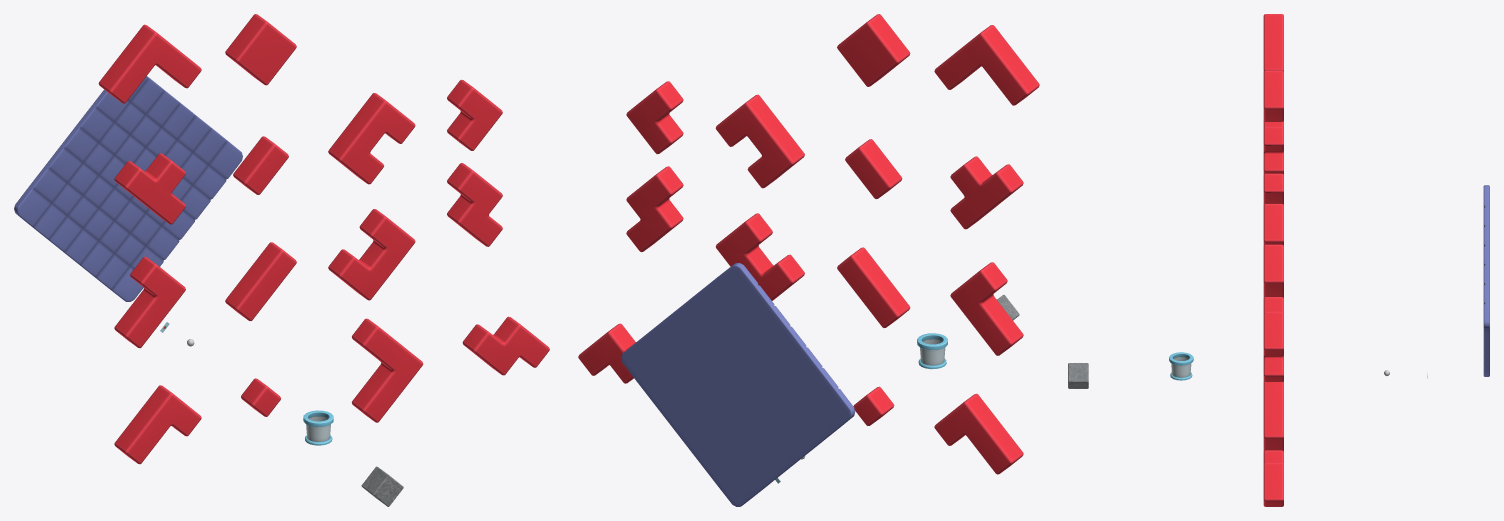
File: BlockerBallDrop.fbx
3 views of the same model, side by side, from view 1: azimuth 30°, elevation 25°; view 2: azimuth 150°, elevation 25°; view 3: azimuth 270°, elevation 25° (orthographic). The views are drawn at different scales.
Visible parts, largest first — view 1: Board, pCube8, pCube9, pCube10, pCube11, pCube6, pCube5, pCube7, pCube13, pCube12, pCube4, pCube2 (+5 smaller); view 2: Board, pCube11, pCube8, pCube6, pCube5, pCube10, pCube13, pCube7, pCube4, pCube2, pCube16, pCube3 (+3 smaller); view 3: pCube13, pCube9, Board, pCube8, pCube12, pCube7, pCube4, pCube16, pCube11, pCube3, Box, Wall.
Boxes of the visible parts, <box> form: Board: <box>14,76,242,301</box>; pCube8: <box>98,24,201,103</box>; pCube9: <box>351,318,423,422</box>; pCube10: <box>328,209,415,300</box>; pCube11: <box>328,93,415,184</box>; pCube6: <box>114,256,185,348</box>; pCube5: <box>114,385,201,464</box>; pCube7: <box>114,153,185,224</box>; pCube13: <box>447,163,502,246</box>; pCube12: <box>462,316,549,375</box>; pCube4: <box>225,14,296,85</box>; pCube2: <box>225,242,296,320</box>; Board: <box>621,263,855,506</box>; pCube11: <box>715,94,804,188</box>; pCube8: <box>934,25,1039,105</box>; pCube6: <box>950,262,1023,355</box>; pCube5: <box>934,393,1023,474</box>; pCube10: <box>715,213,804,300</box>; pCube13: <box>626,166,683,252</box>; pCube7: <box>950,156,1023,229</box>; pCube4: <box>837,14,910,86</box>; pCube2: <box>837,247,910,327</box>; pCube16: <box>626,81,683,154</box>; pCube3: <box>845,139,902,198</box>; pCube13: <box>1263,311,1283,381</box>; pCube9: <box>1263,381,1283,451</box>; Board: <box>1483,185,1489,376</box>; pCube8: <box>1263,14,1283,71</box>; pCube12: <box>1263,450,1283,506</box>; pCube7: <box>1263,121,1283,174</box>; pCube4: <box>1263,70,1283,121</box>; pCube16: <box>1263,244,1283,295</box>; pCube11: <box>1263,203,1283,245</box>; pCube3: <box>1263,173,1283,204</box>; Box: <box>1169,352,1193,380</box>; Wall: <box>1068,363,1088,388</box>.
Size of the model in its own units: 19.87 by 19.16 by 20.5.
